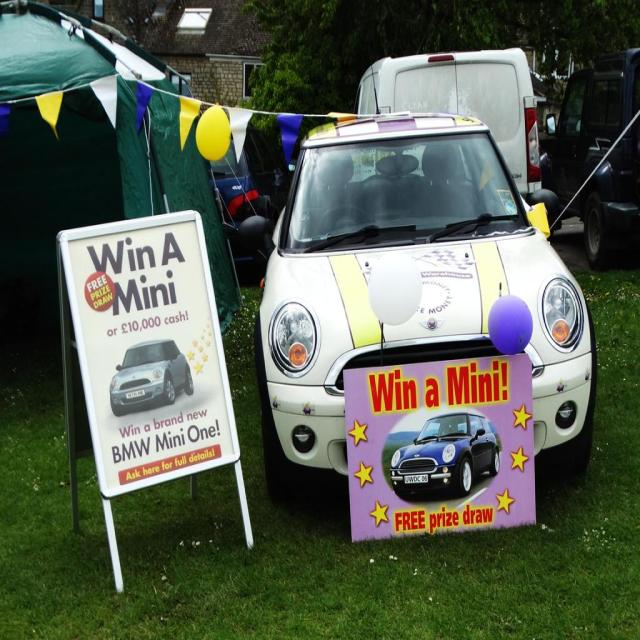car: (107, 338, 194, 414)
